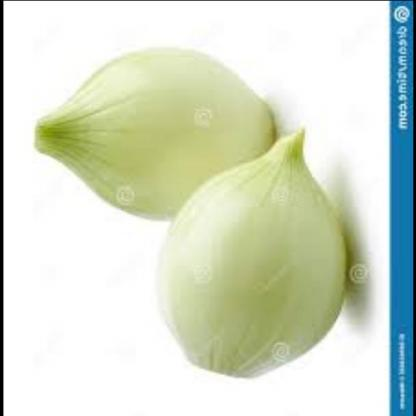onion: (146, 132, 370, 384), (33, 41, 283, 231)
